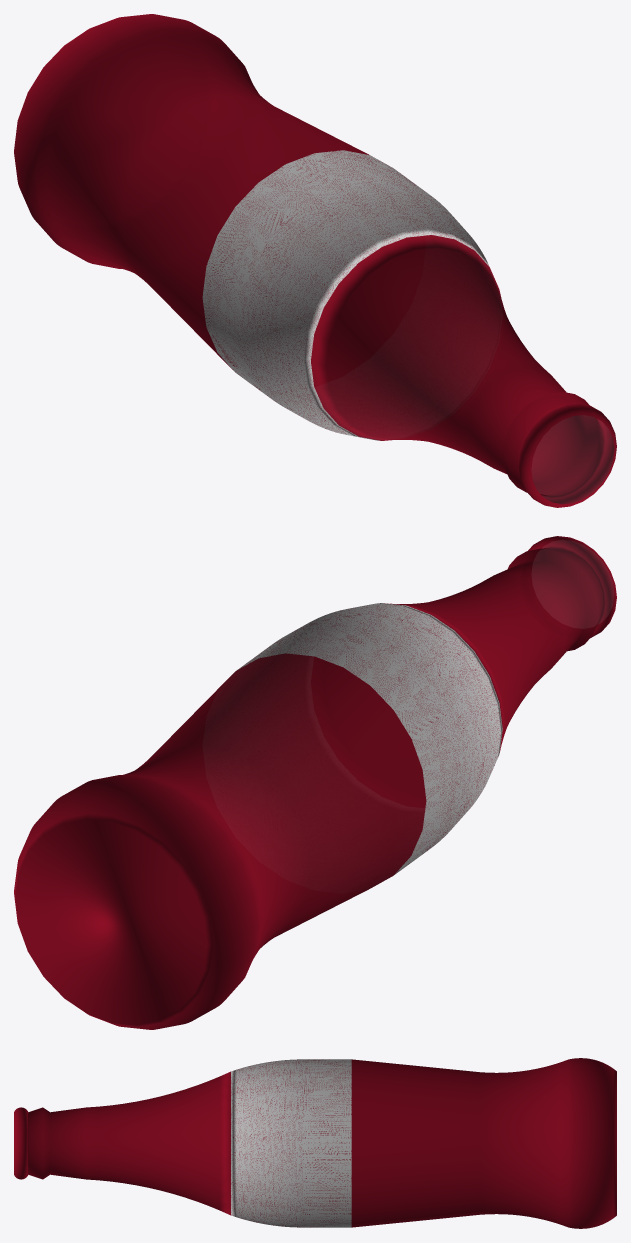
The model's file is model_align.obj.
3 views of the same model, one above another, from view 1: azimuth 30°, elevation 25°; view 2: azimuth 150°, elevation 25°; view 3: azimuth 270°, elevation 25° (orthographic). The views are drawn at different scales.
Parts seen in each view (by area): view 1: mesh1_mesh1-geometry; view 2: mesh1_mesh1-geometry; view 3: mesh1_mesh1-geometry.
Part boxes in pixels (<box>): mesh1_mesh1-geometry: <box>14,14,616,507</box>; mesh1_mesh1-geometry: <box>14,536,616,1029</box>; mesh1_mesh1-geometry: <box>14,1058,616,1228</box>.
Bounding box in the file's own units: 0.0401 × 0.0401 × 0.1411.
